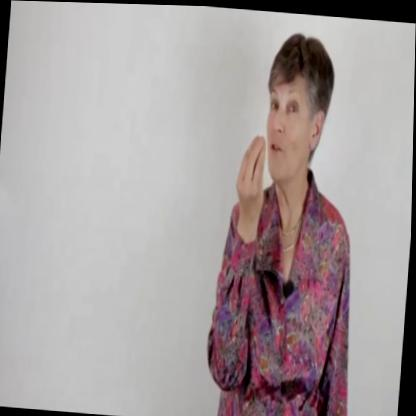Food: (232, 23, 343, 219)
